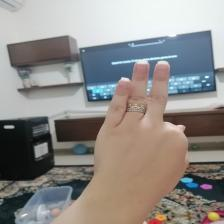five: (98, 59, 192, 203)
